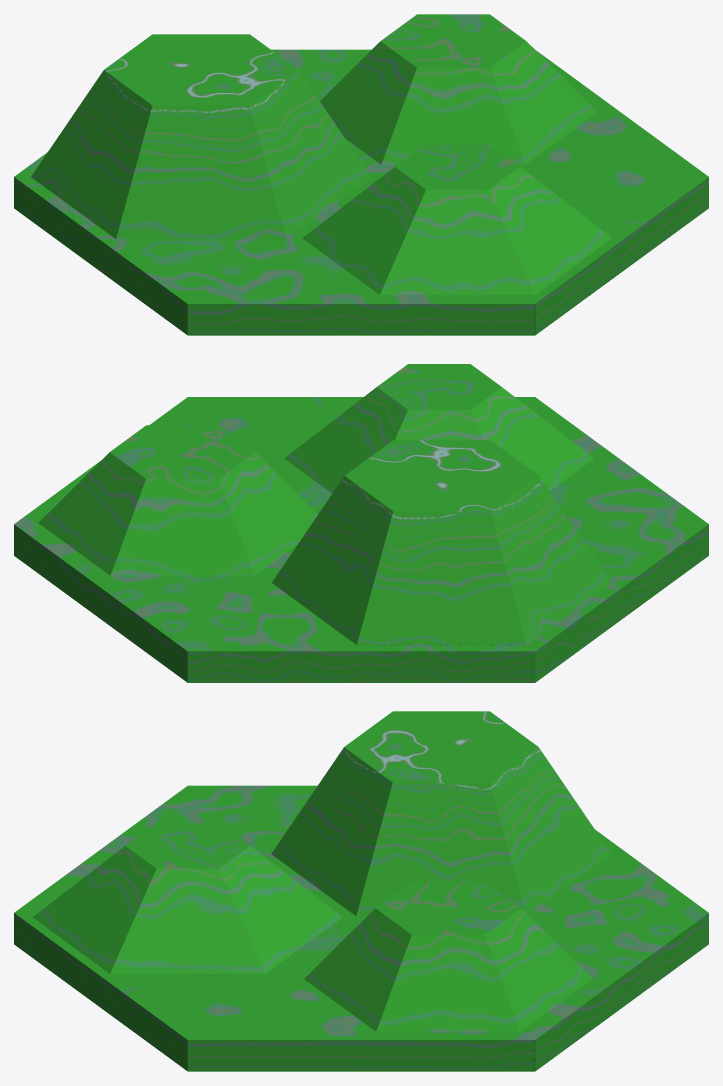
The model's file is Hills.glb.
3 renders of one model, top to bottom at view 1: azimuth 30°, elevation 25°; view 2: azimuth 150°, elevation 25°; view 3: azimuth 270°, elevation 25°, orthographic.
Visible parts, largest first — view 1: Hills; view 2: Hills; view 3: Hills.
Boxes of the visible parts, bbox=[...] form: Hills: bbox=[14, 14, 708, 335]; Hills: bbox=[14, 364, 708, 682]; Hills: bbox=[14, 711, 708, 1071].
Size of the model in its own units: 1.73 by 0.44 by 2.
1 material, 1 textured.
